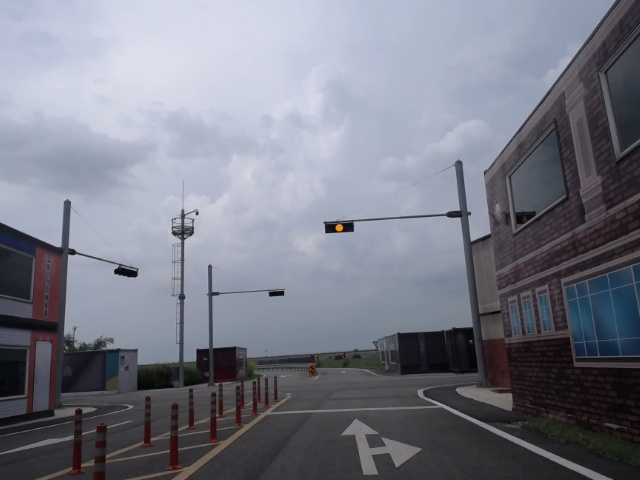orange_3: (325, 221, 354, 233)
